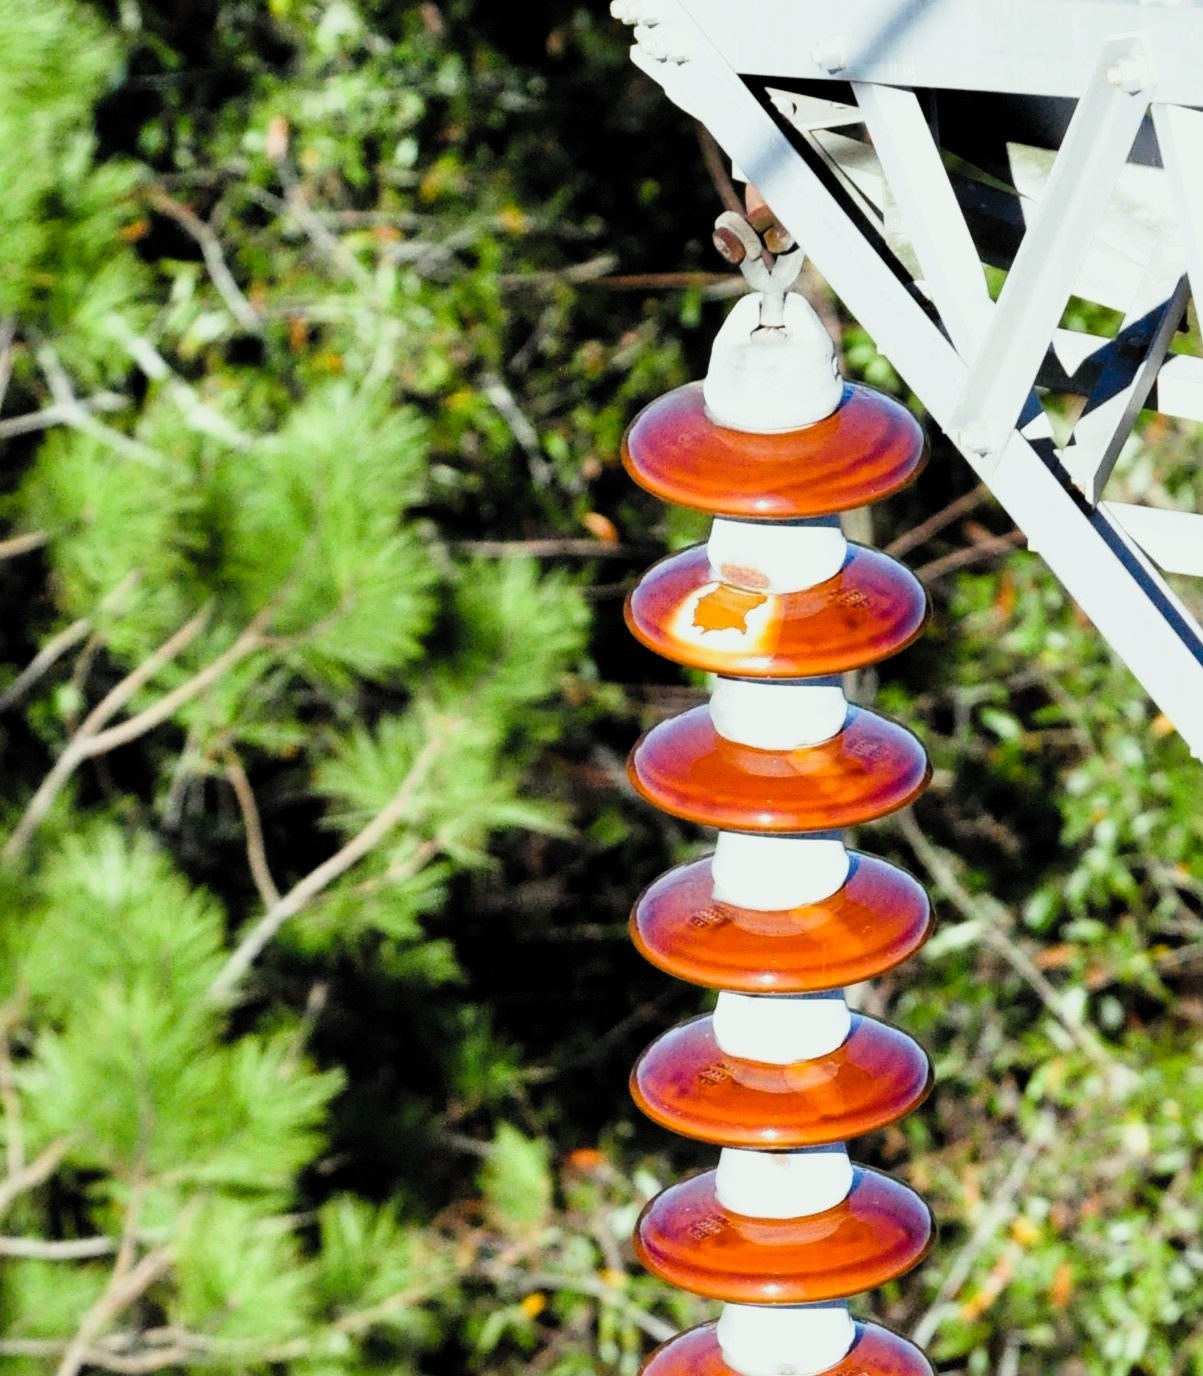Insulator flashover: (616, 527, 936, 688)
